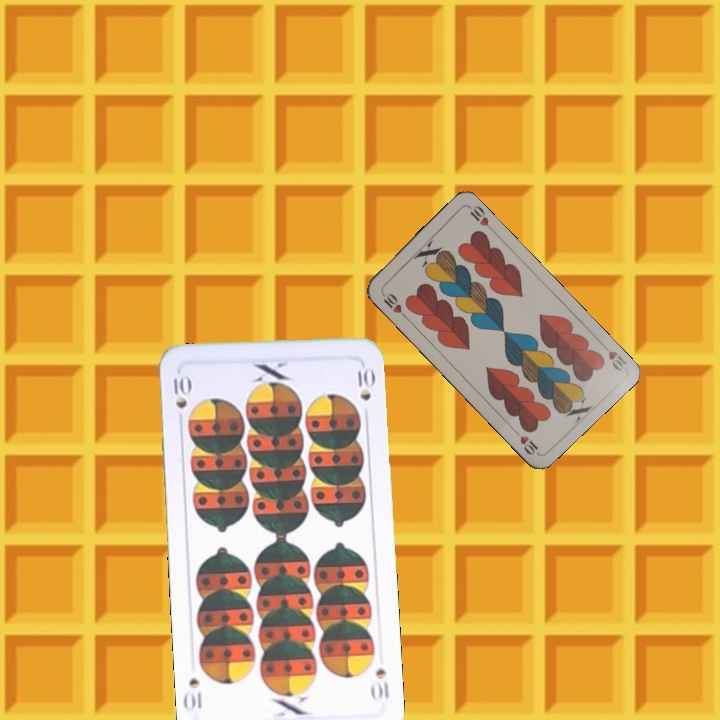H10: (597, 338, 629, 374), (377, 287, 409, 320)
S10: (168, 369, 192, 428), (371, 664, 391, 701)
